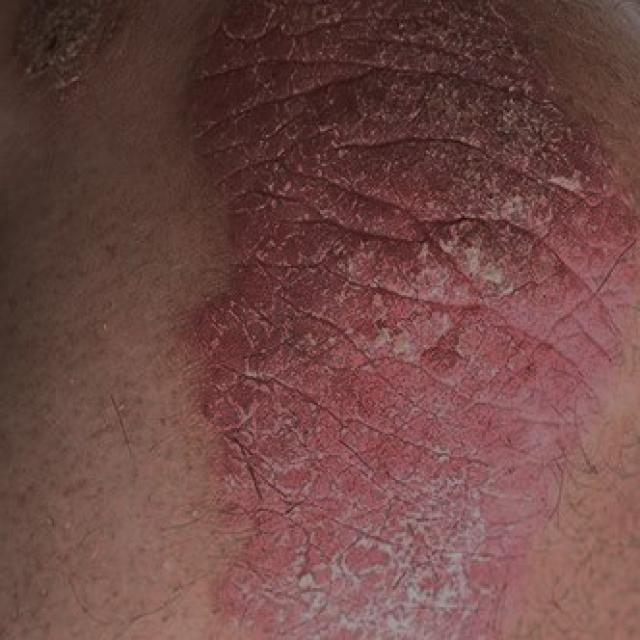Psoriasis: (118, 6, 630, 640)
